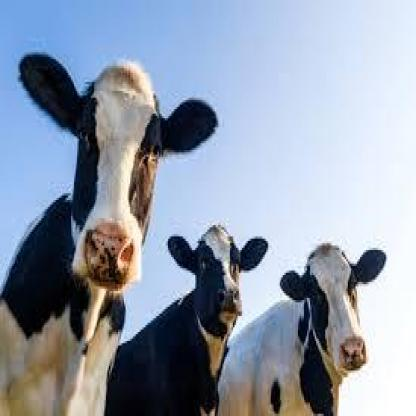cow: (0, 54, 218, 416), (104, 225, 268, 416), (216, 245, 384, 416)
